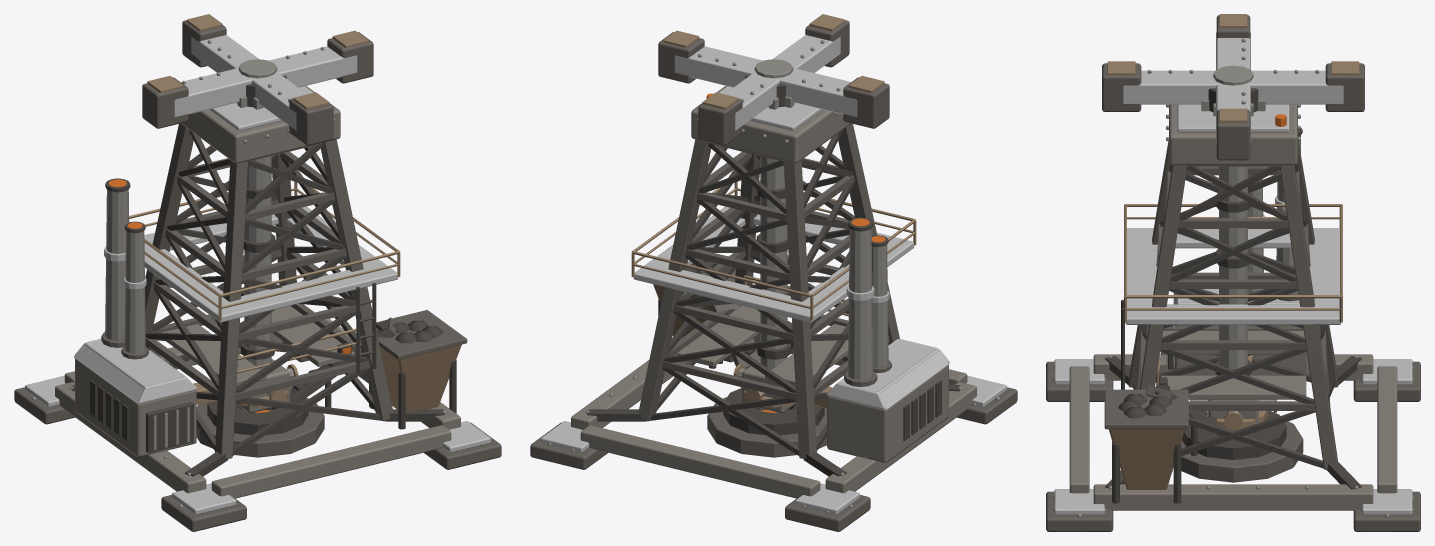
The model's file is crucible_deep_extractor.glb.
3 views of the same model, side by side, from view 1: azimuth 30°, elevation 25°; view 2: azimuth 150°, elevation 25°; view 3: azimuth 270°, elevation 25° (orthographic). The views are drawn at different scales.
Parts seen in each view (by area): view 1: Body, Rotor_Y; view 2: Body, Rotor_Y; view 3: Body, Rotor_Y.
Boxes of the visible parts, box(x1,y1,x2,y2) form: Body: box(14, 86, 501, 531); Rotor_Y: box(142, 14, 373, 145); Body: box(530, 86, 1017, 531); Rotor_Y: box(658, 14, 889, 145); Body: box(1046, 104, 1420, 531); Rotor_Y: box(1102, 14, 1364, 160).
Bounding box in the file's own units: 6.7 × 7.63 × 6.7.
